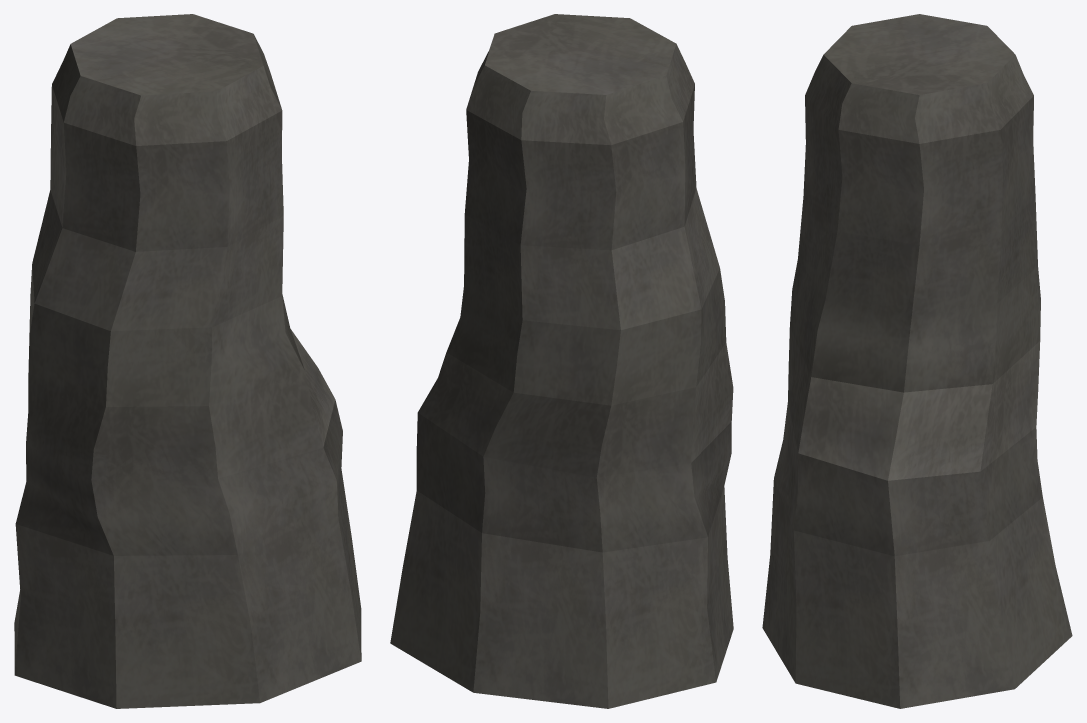
File: ZachMesaRock6.fbx
The picture shows the model from 3 angles, left to right: view 1: azimuth 30°, elevation 25°; view 2: azimuth 150°, elevation 25°; view 3: azimuth 270°, elevation 25°; orthographic projection. The views are drawn at different scales.
Parts seen in each view (by area): view 1: ZachMesaRock6; view 2: ZachMesaRock6; view 3: ZachMesaRock6.
Part boxes in pixels (<box>): ZachMesaRock6: <box>14,14,361,708</box>; ZachMesaRock6: <box>390,14,733,708</box>; ZachMesaRock6: <box>762,14,1072,708</box>.
Bounding box in the file's own units: 20.47 × 35.2 × 17.41.
